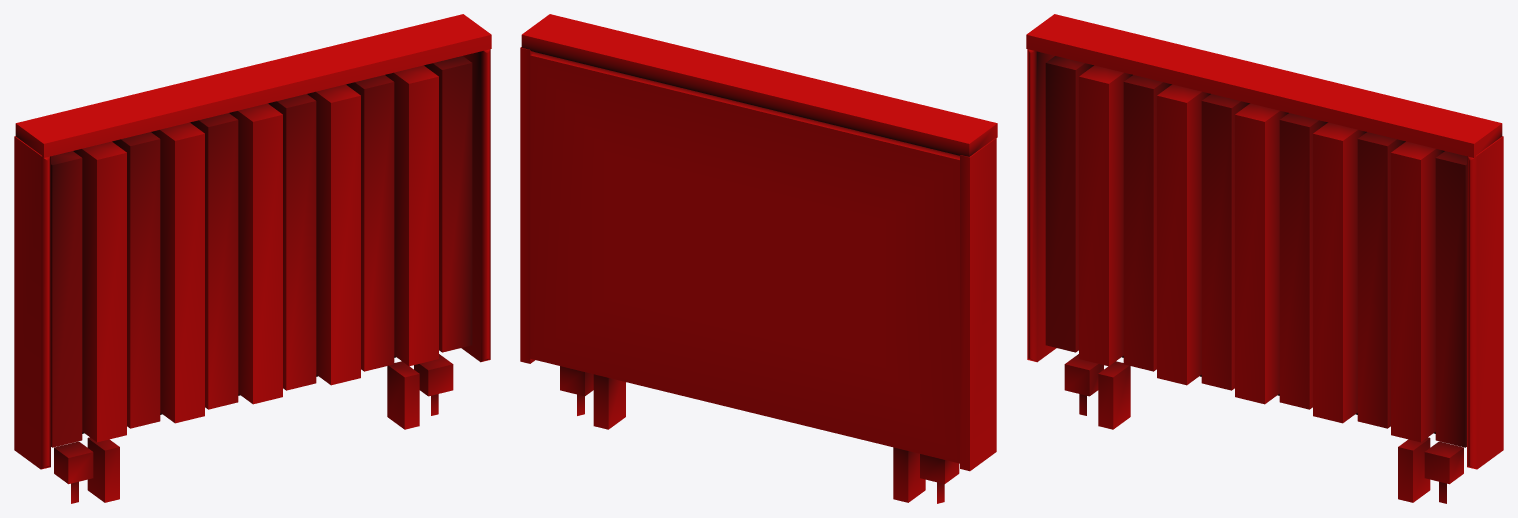
File: CI_Decor_Radiator_Panel.glb
3 views of the same model, side by side, from view 1: azimuth 30°, elevation 25°; view 2: azimuth 150°, elevation 25°; view 3: azimuth 330°, elevation 25° (orthographic).
Visible parts, largest first — view 1: CI_Decor_Radiator_Panel; view 2: CI_Decor_Radiator_Panel; view 3: CI_Decor_Radiator_Panel.
Boxes of the visible parts, x1,y1,x2,y2 form: CI_Decor_Radiator_Panel: (14,14,491,503); CI_Decor_Radiator_Panel: (520,14,997,503); CI_Decor_Radiator_Panel: (1026,14,1503,503).
Size of the model in its own units: 0.9 by 0.725 by 0.1.
